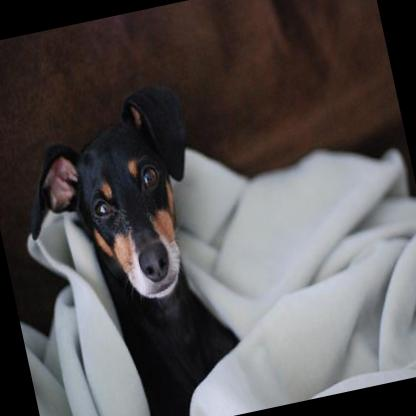miniature_pinscher: (3, 79, 242, 416)
